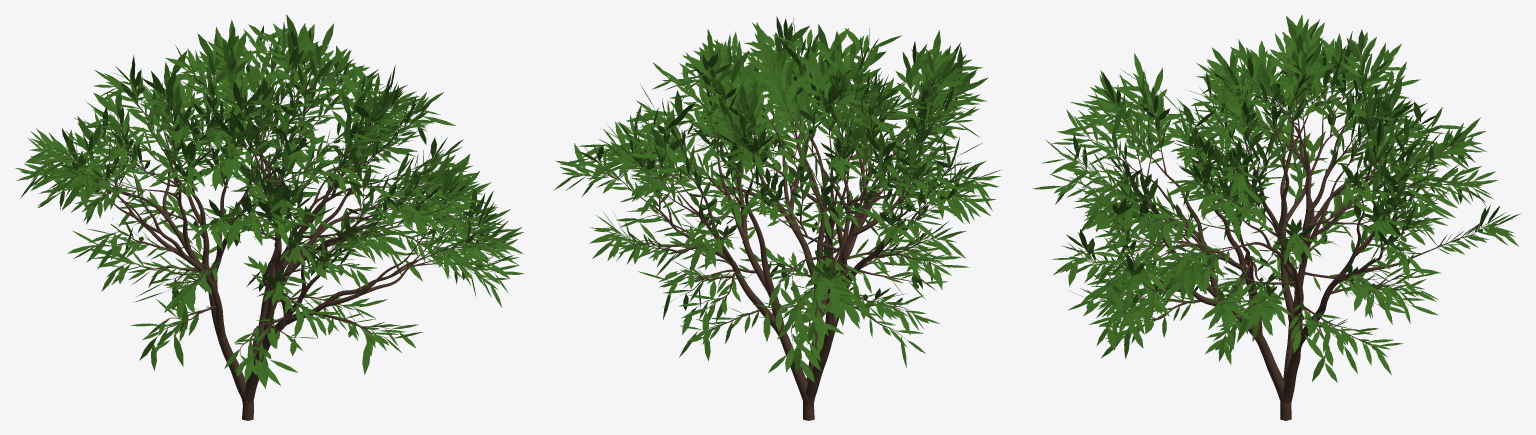
Rendered from Tree 3.fbx.
3 renders of one model, left to right at view 1: azimuth 30°, elevation 25°; view 2: azimuth 150°, elevation 25°; view 3: azimuth 270°, elevation 25°, orthographic.
Visible parts, largest first — view 1: leaves.001, tree.001; view 2: leaves.001, tree.001; view 3: leaves.001, tree.001.
Part boxes in pixels (x1,y1,x2,y2): leaves.001: (15, 14, 524, 388); tree.001: (49, 44, 497, 420); leaves.001: (553, 16, 1001, 382); tree.001: (599, 48, 974, 420); leaves.001: (1032, 15, 1520, 382); tree.001: (1066, 47, 1495, 420).
Bounding box in the file's own units: 11.1 × 9.36 × 11.47.
